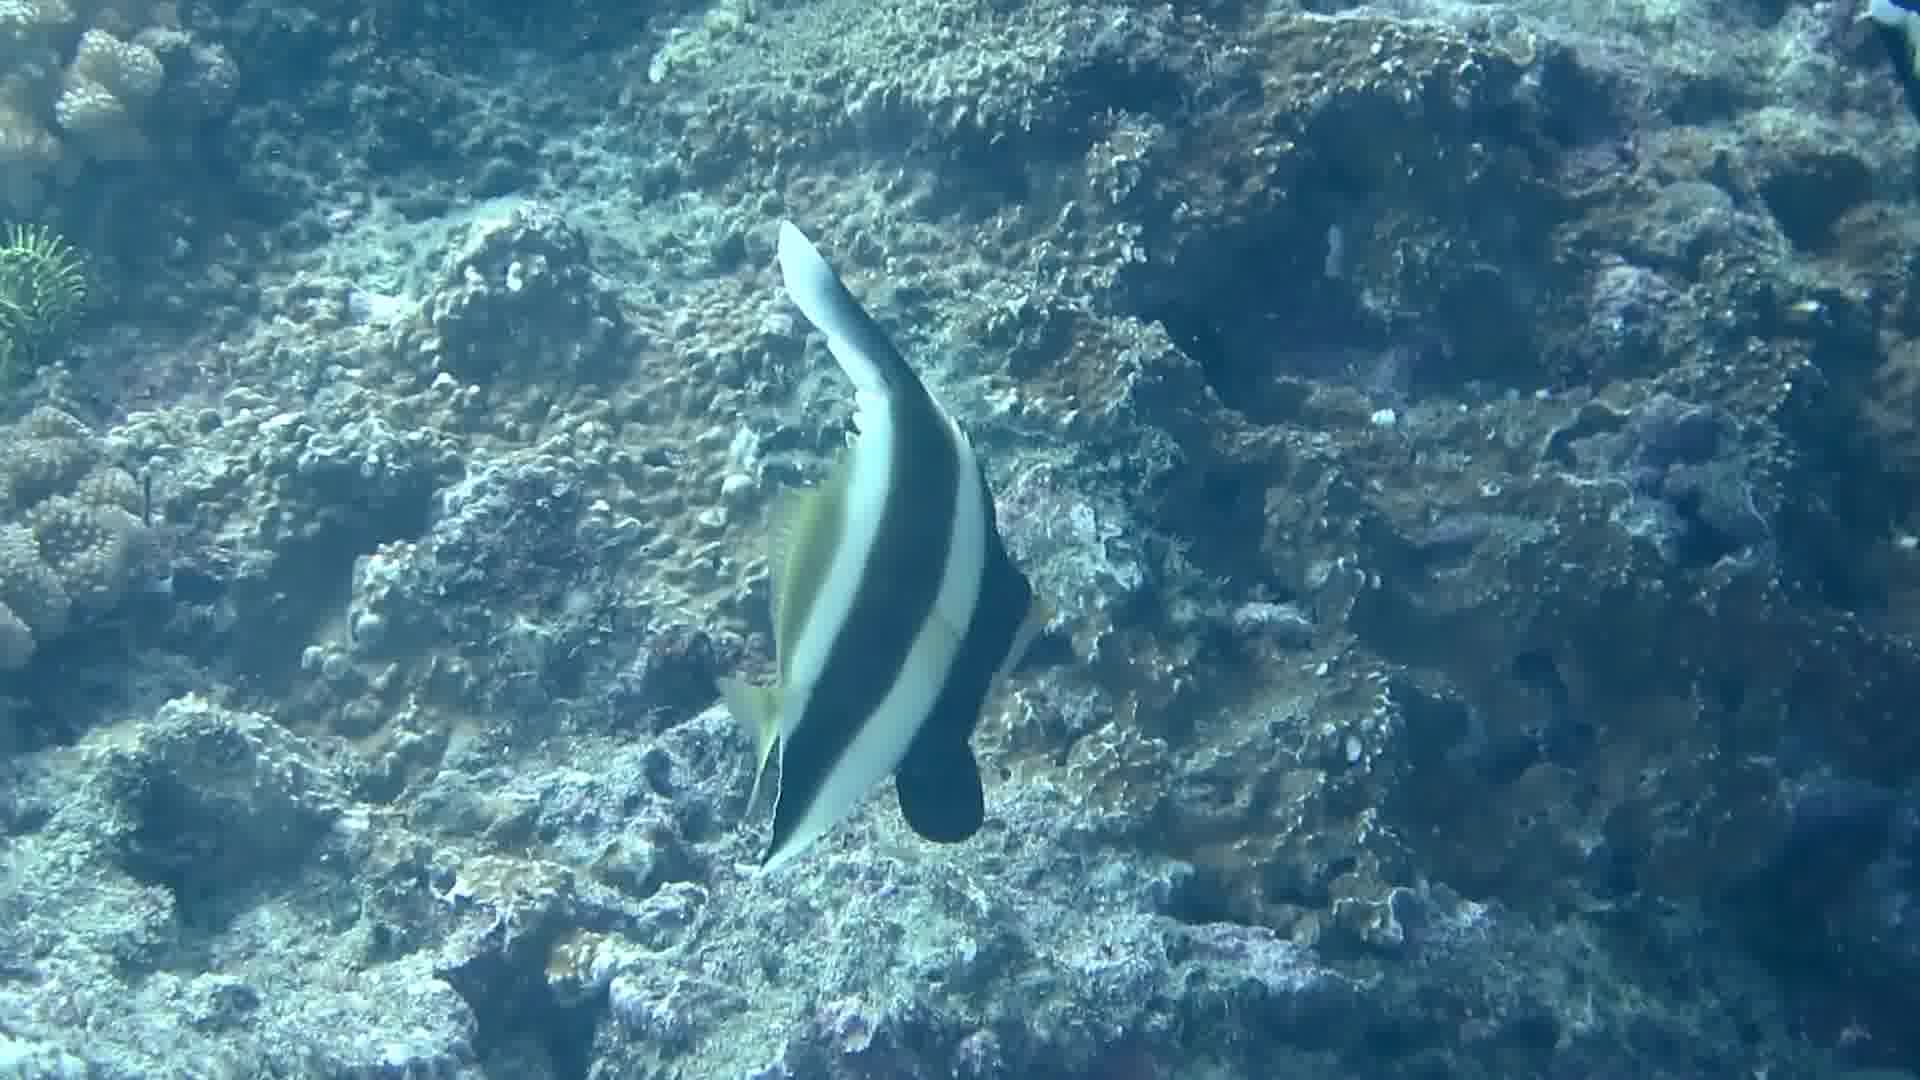Heniochus chrysostomus: (605, 160, 1147, 928)
